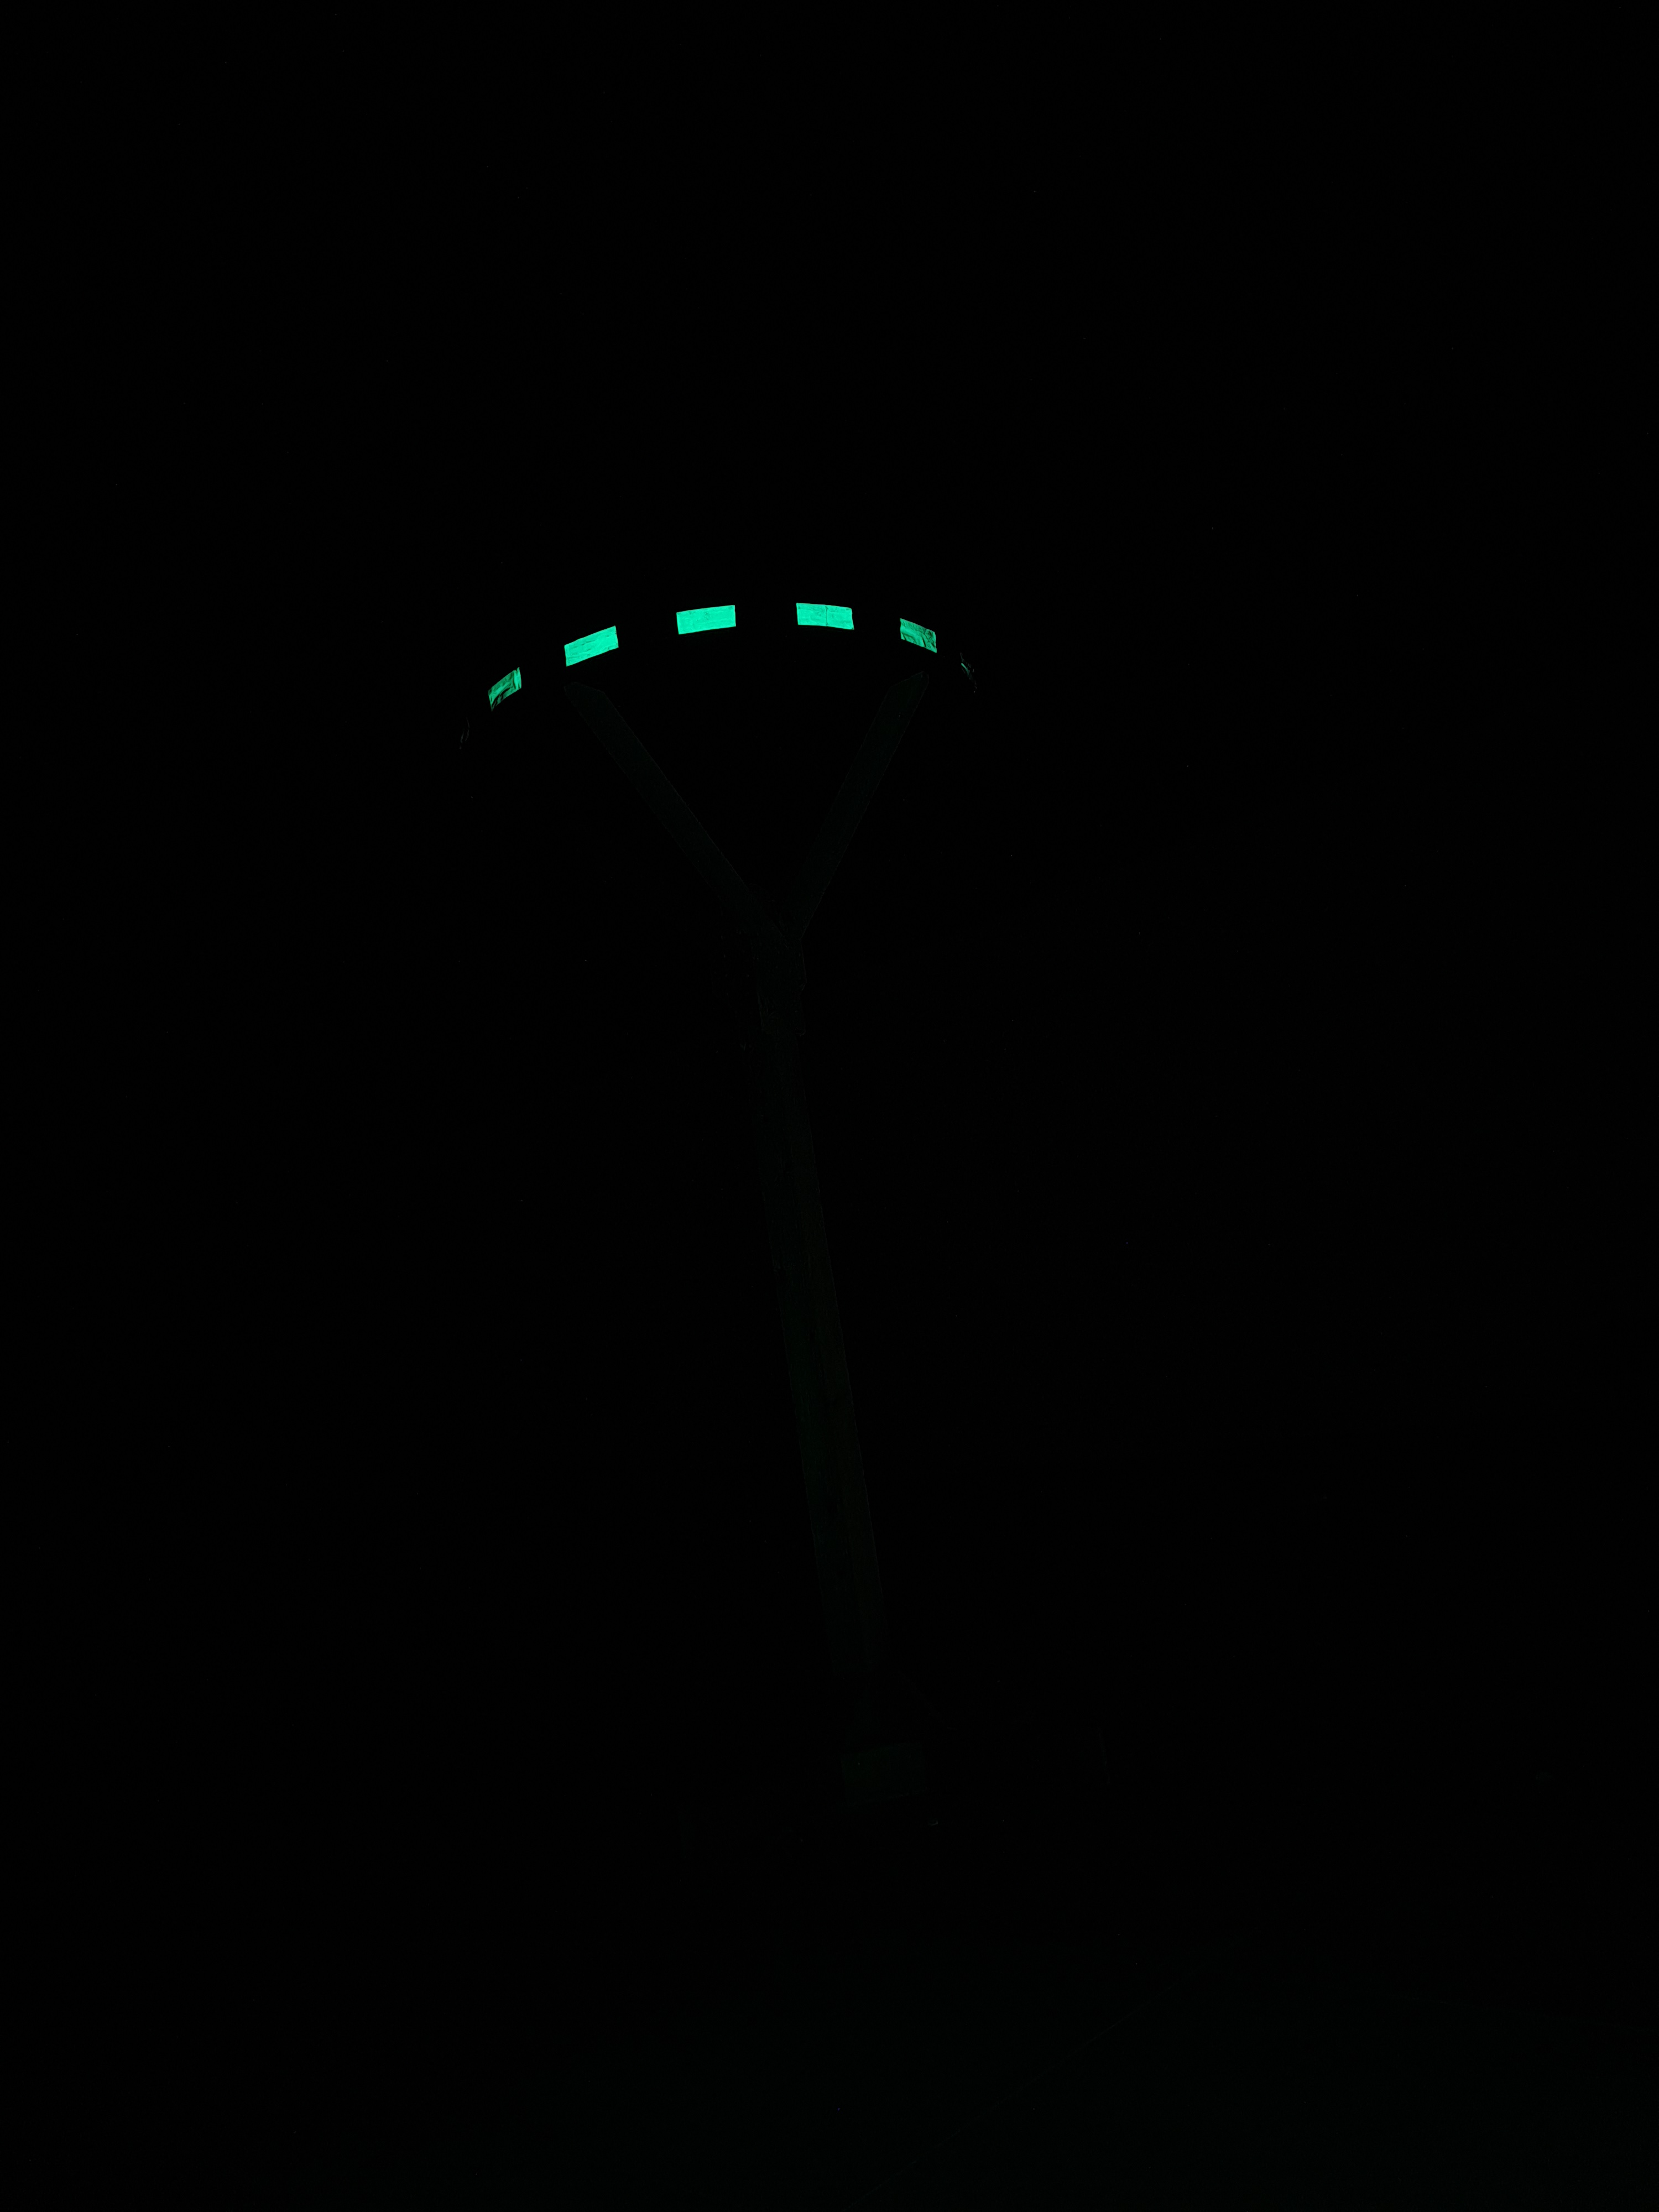hoop: (479, 596, 941, 714)
